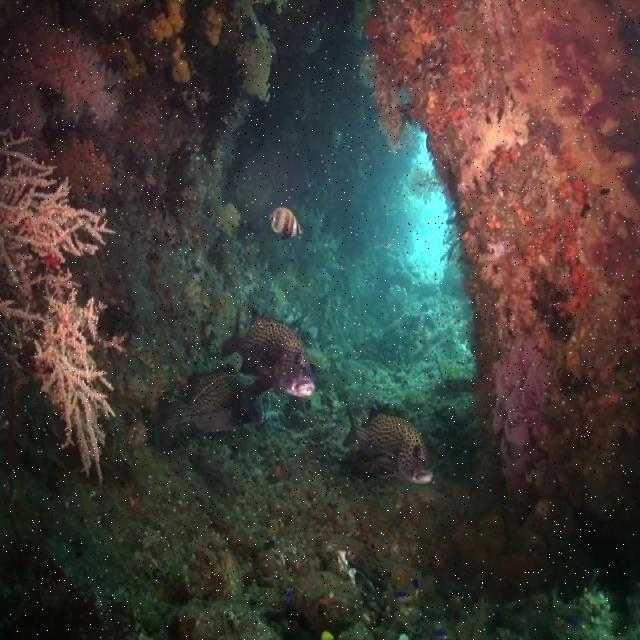fish: (151, 364, 267, 452), (222, 307, 316, 397), (342, 401, 435, 482), (268, 208, 304, 234)
reefs: (0, 128, 127, 479)
